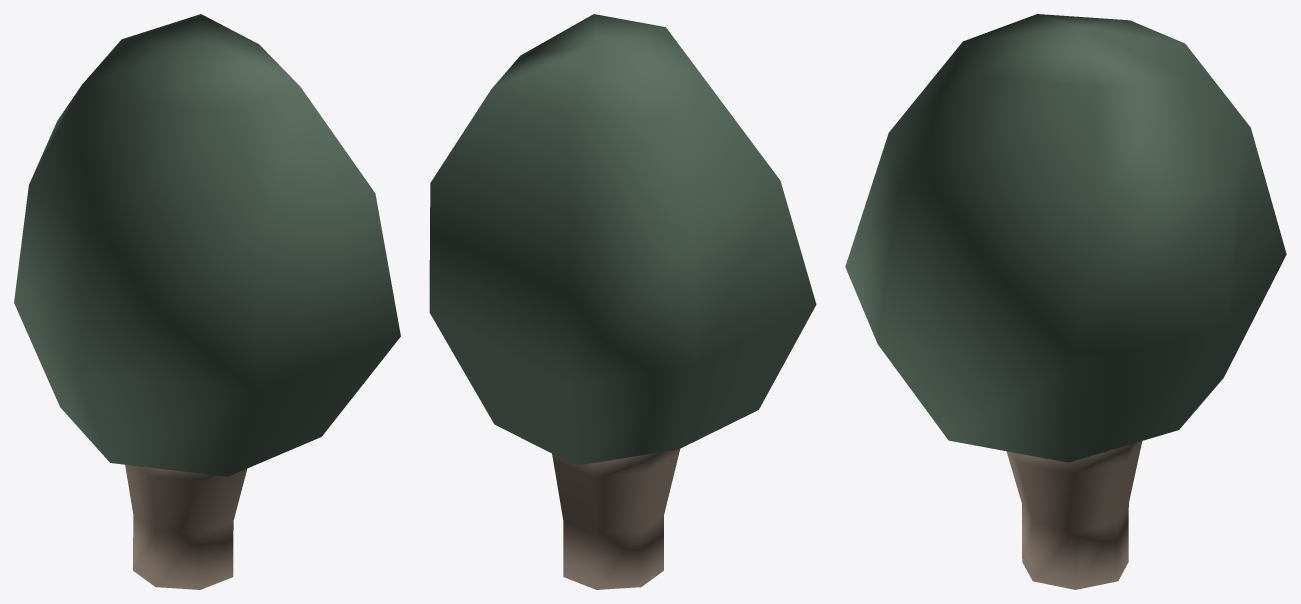
The model's file is Overworld prop - Bush 1.fbx.
The picture shows the model from 3 angles, left to right: view 1: azimuth 30°, elevation 25°; view 2: azimuth 150°, elevation 25°; view 3: azimuth 270°, elevation 25°; orthographic projection. The views are drawn at different scales.
Visible parts, largest first — view 1: pSphere1; view 2: pSphere1; view 3: pSphere1.
Boxes of the visible parts, x1=… form: pSphere1: x1=14, y1=14, x2=400, y2=589; pSphere1: x1=429, y1=14, x2=816, y2=589; pSphere1: x1=845, y1=14, x2=1286, y2=589.
Size of the model in its own units: 1.44 by 2.27 by 1.65.
